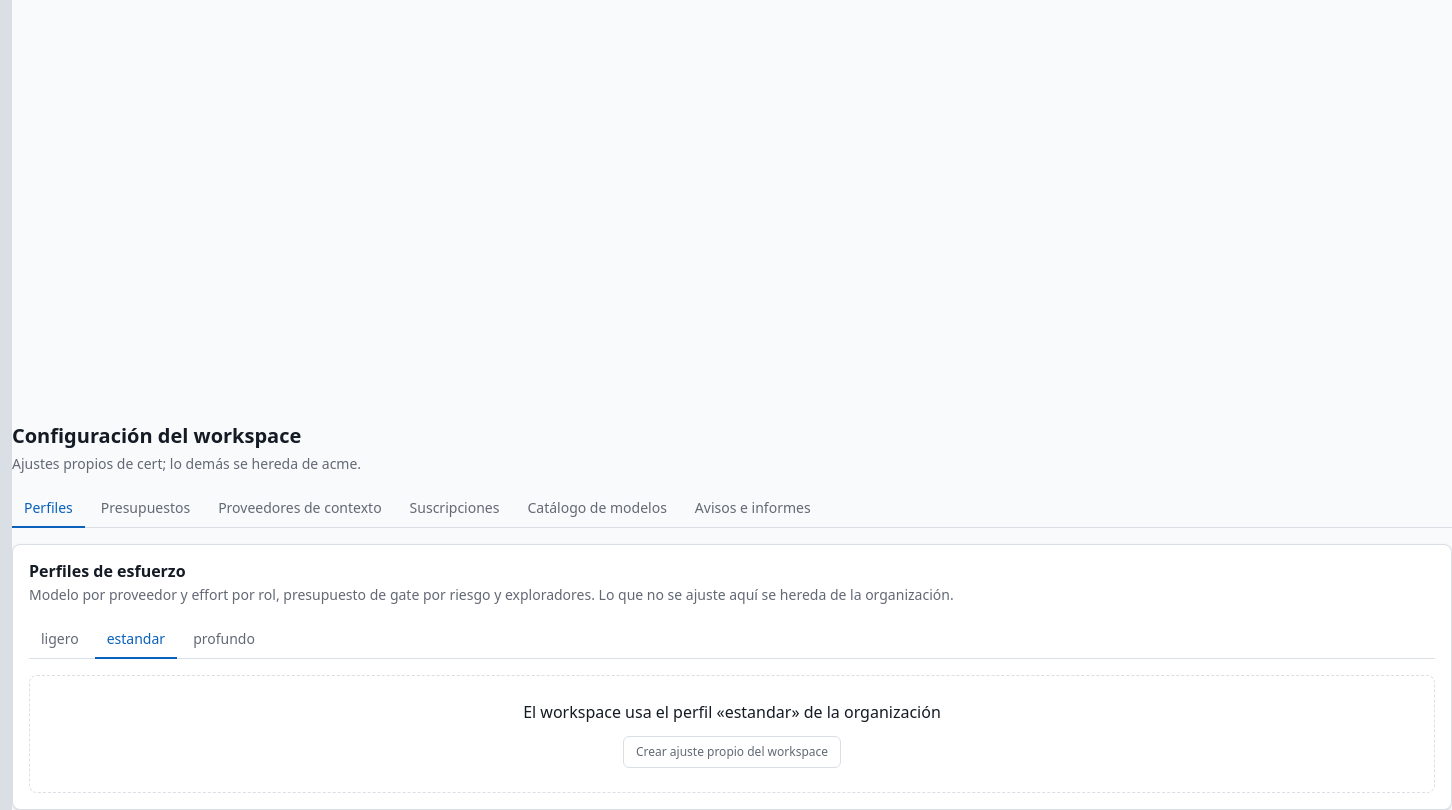
Test: Configuración del workspace › un admin. de organización sí gestiona suscripciones desde la vista de un workspace
The image size is (1452, 810).
(page scrolled)
What coordinates should you click on to do the following:
click the tab "Suscripciones"
I would click on:
 (454, 509)
Its box is [398,490,511,528].
(page scrolled)
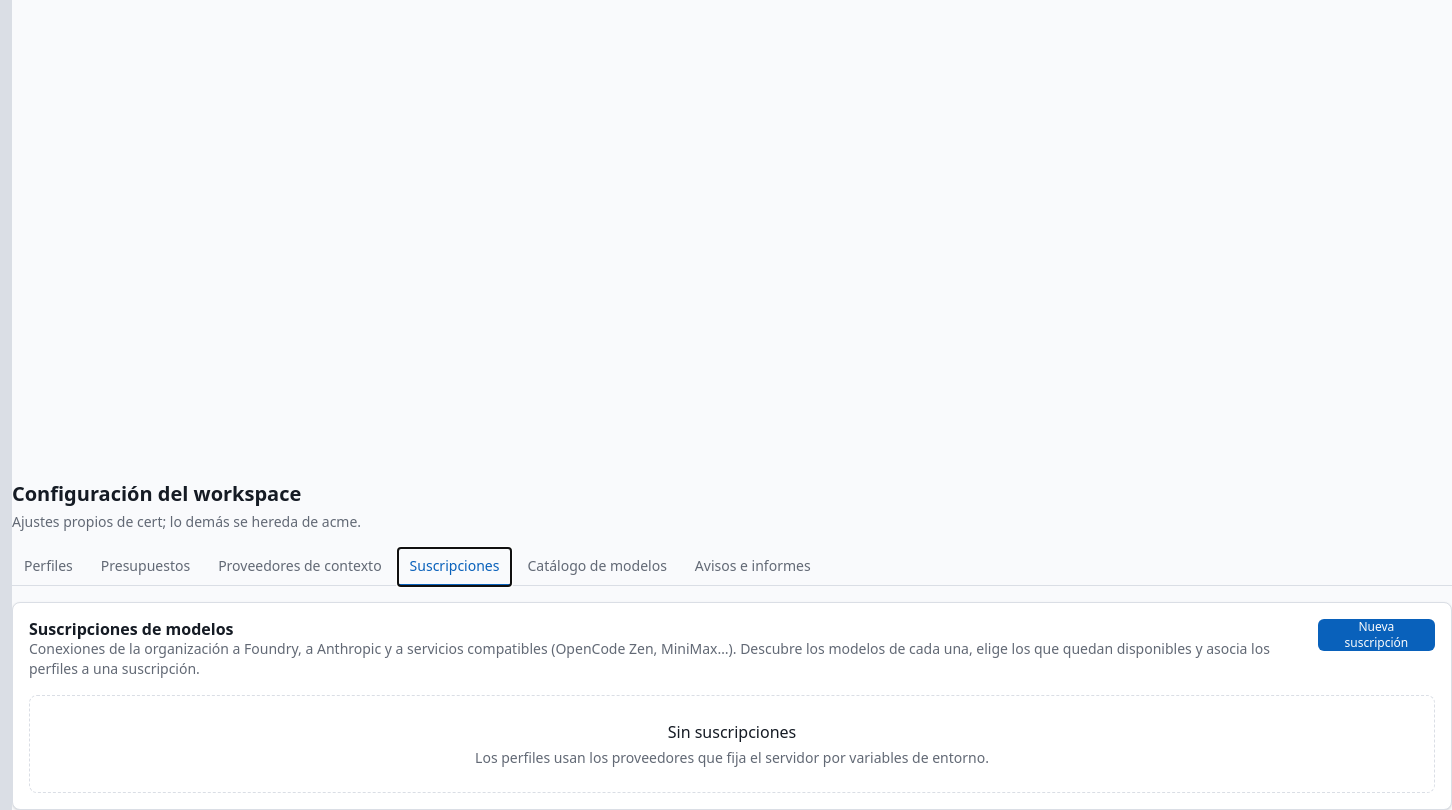
Expected: the button "Nueva suscripción" is shown, [1318,619,1435,651]
